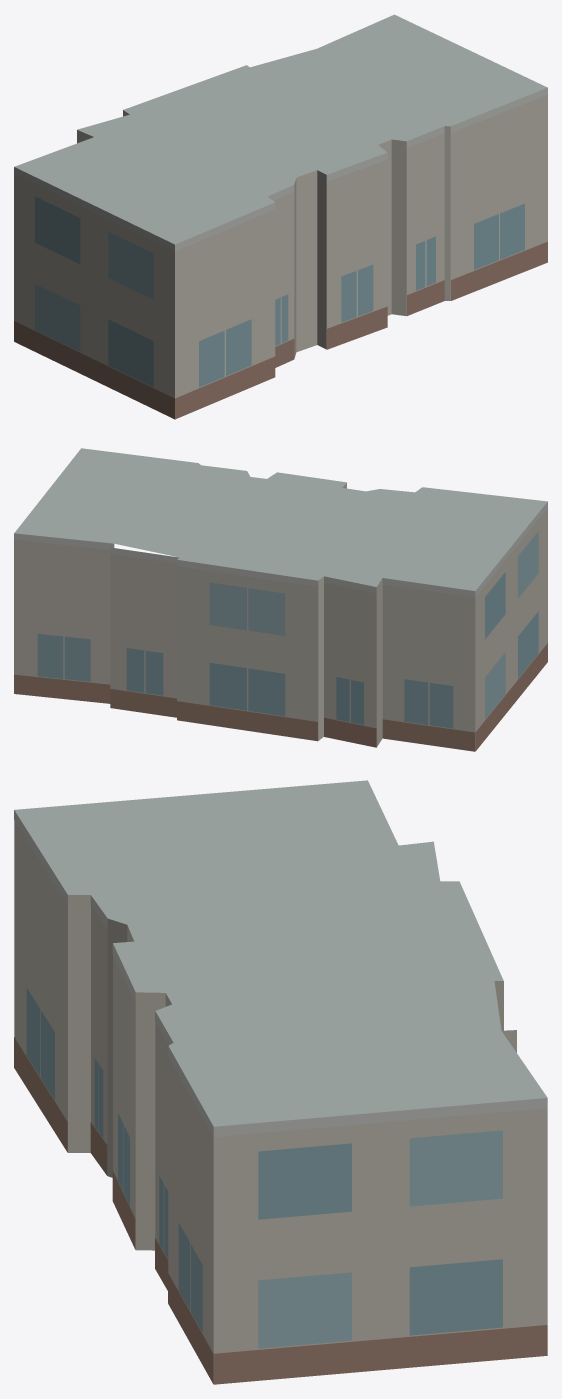
File: survey-upis-32624103.glb
The picture shows the model from 3 angles, top to bottom: view 1: azimuth 30°, elevation 25°; view 2: azimuth 150°, elevation 25°; view 3: azimuth 270°, elevation 25°; orthographic projection. The views are drawn at different scales.
Visible parts, largest first — view 1: survey-upis-32624103.tmp; view 2: survey-upis-32624103.tmp; view 3: survey-upis-32624103.tmp.
Part boxes in pixels (x1,y1,x2,y2): survey-upis-32624103.tmp: (14, 14, 547, 419); survey-upis-32624103.tmp: (14, 448, 547, 751); survey-upis-32624103.tmp: (14, 780, 547, 1384).
Size of the model in its own units: 17.59 by 6.1 by 11.45.
